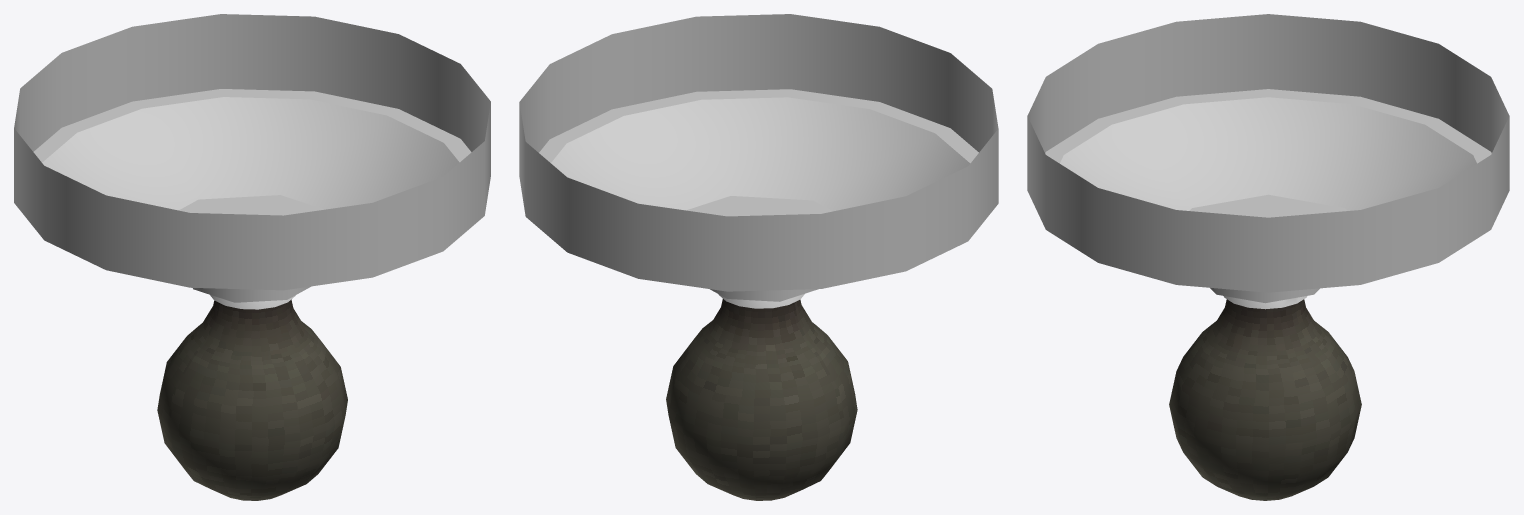
Rendered from ceiling_lamp_mp_1_1_off.obj.
The picture shows the model from 3 angles, left to right: view 1: azimuth 30°, elevation 25°; view 2: azimuth 150°, elevation 25°; view 3: azimuth 270°, elevation 25°; orthographic projection.
Visible parts, largest first — view 1: ceiling_lamp_mp_1_1_off; view 2: ceiling_lamp_mp_1_1_off; view 3: ceiling_lamp_mp_1_1_off.
Boxes of the visible parts, x1,y1,x2,y2 form: ceiling_lamp_mp_1_1_off: (14,14,490,500); ceiling_lamp_mp_1_1_off: (519,14,998,500); ceiling_lamp_mp_1_1_off: (1027,14,1509,500).
Bounding box in the file's own units: 0.215 × 0.1855 × 0.215.
